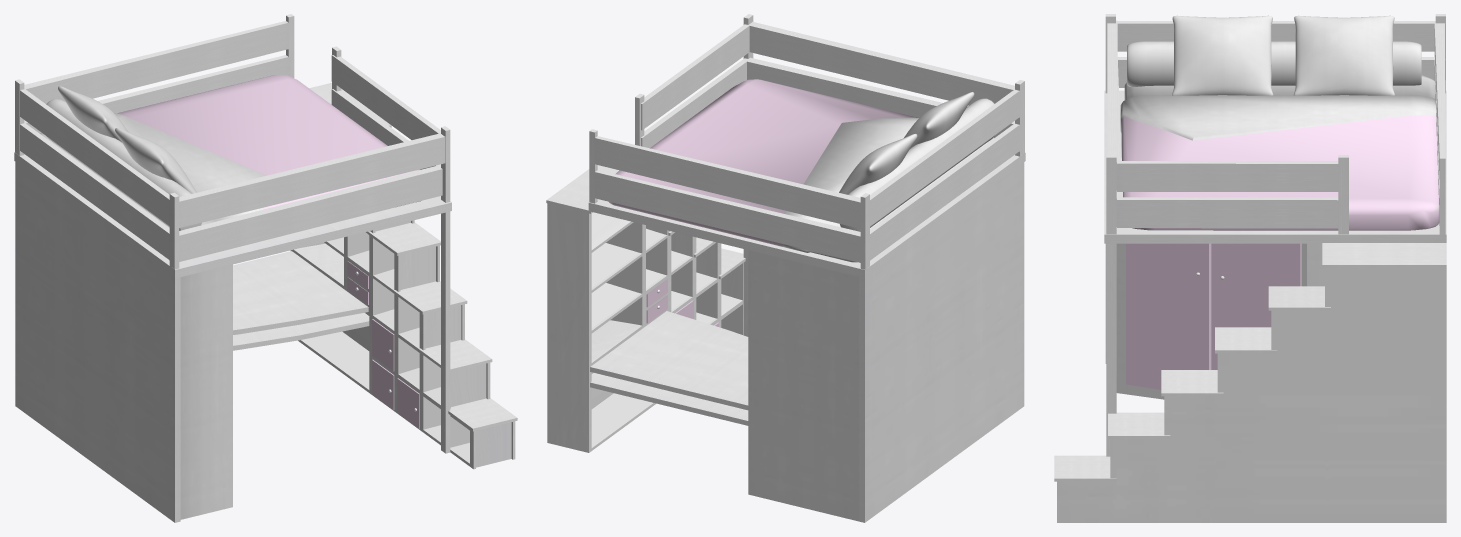
The model's file is sh-contrib-lit-mezzanine2.glb.
3 views of the same model, side by side, from view 1: azimuth 30°, elevation 25°; view 2: azimuth 150°, elevation 25°; view 3: azimuth 270°, elevation 25° (orthographic). The views are drawn at different scales.
Parts seen in each view (by area): view 1: 1_1, 4_4, 15_15; view 2: 1_1, 4_4, 15_15; view 3: 1_1, 4_4, 15_15.
Boxes of the visible parts, x1=… form: 1_1: x1=14, y1=14, x2=517, y2=522; 4_4: x1=117, y1=74, x2=420, y2=428; 15_15: x1=40, y1=86, x2=266, y2=230; 1_1: x1=546, y1=14, x2=1025, y2=522; 4_4: x1=609, y1=79, x2=917, y2=326; 15_15: x1=781, y1=92, x2=994, y2=262; 1_1: x1=1054, y1=14, x2=1446, y2=522; 4_4: x1=1121, y1=115, x2=1439, y2=389; 15_15: x1=1120, y1=15, x2=1439, y2=210.
Size of the model in its own units: 1 by 1 by 1.
3 materials, 2 textured.
